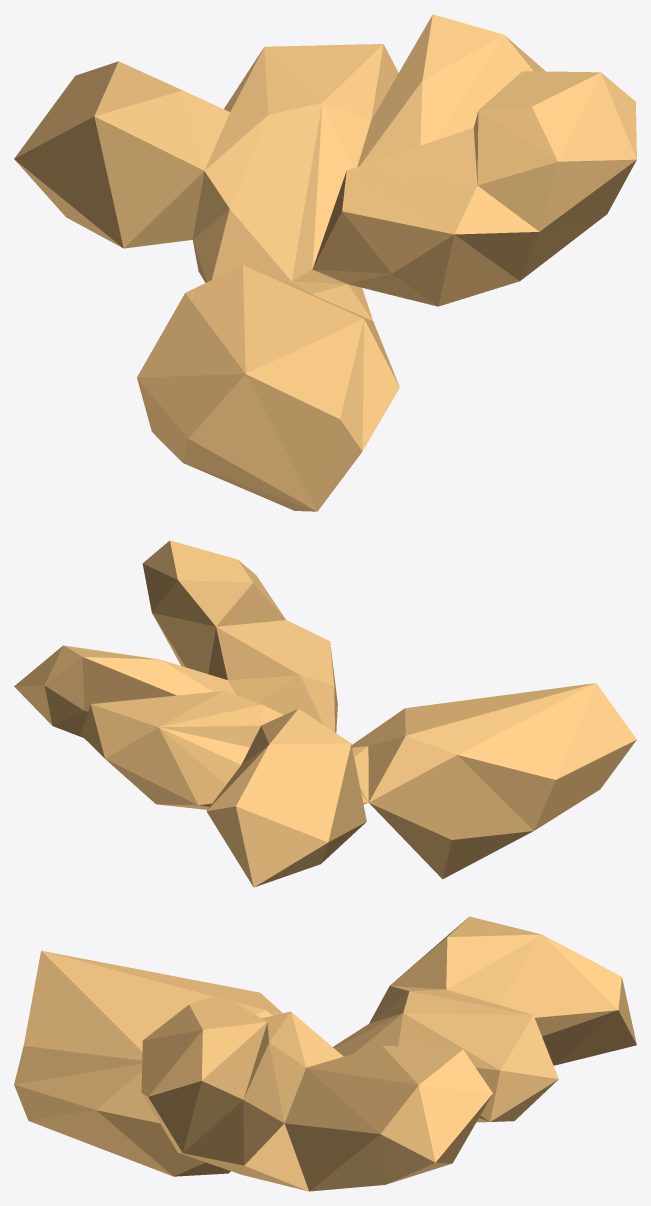
The picture shows the model from 3 angles, top to bottom: view 1: azimuth 30°, elevation 25°; view 2: azimuth 150°, elevation 25°; view 3: azimuth 270°, elevation 25°; orthographic projection. The views are drawn at different scales.
Parts seen in each view (by area): view 1: mesh; view 2: mesh; view 3: mesh.
Part boxes in pixels (x1,y1,x2,y2): mesh: [14, 14, 636, 511]; mesh: [14, 540, 636, 887]; mesh: [14, 916, 636, 1191].
Size of the model in its own units: 0.108 by 0.0592 by 0.1095.
